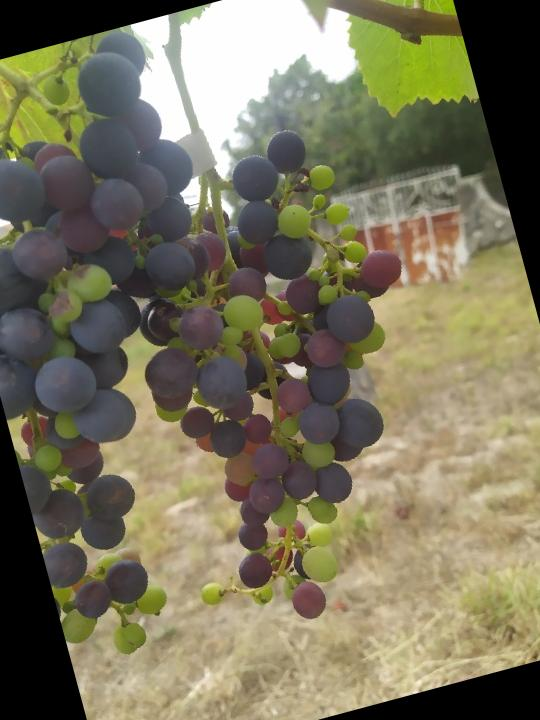grape: (86, 103, 489, 650), (0, 23, 314, 671)
